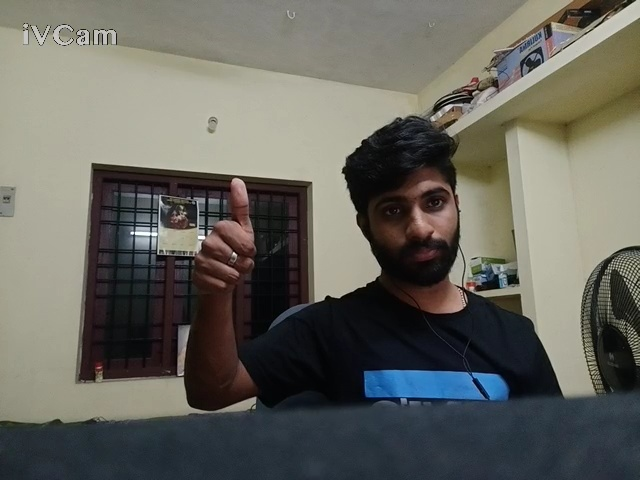Yes: (149, 162, 318, 331)
